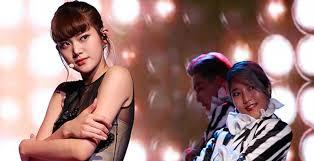earphone: (101, 33, 108, 42)
